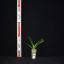leaf: (26, 37, 34, 49), (34, 40, 44, 49), (34, 39, 43, 48), (25, 43, 34, 49), (29, 37, 34, 47)
